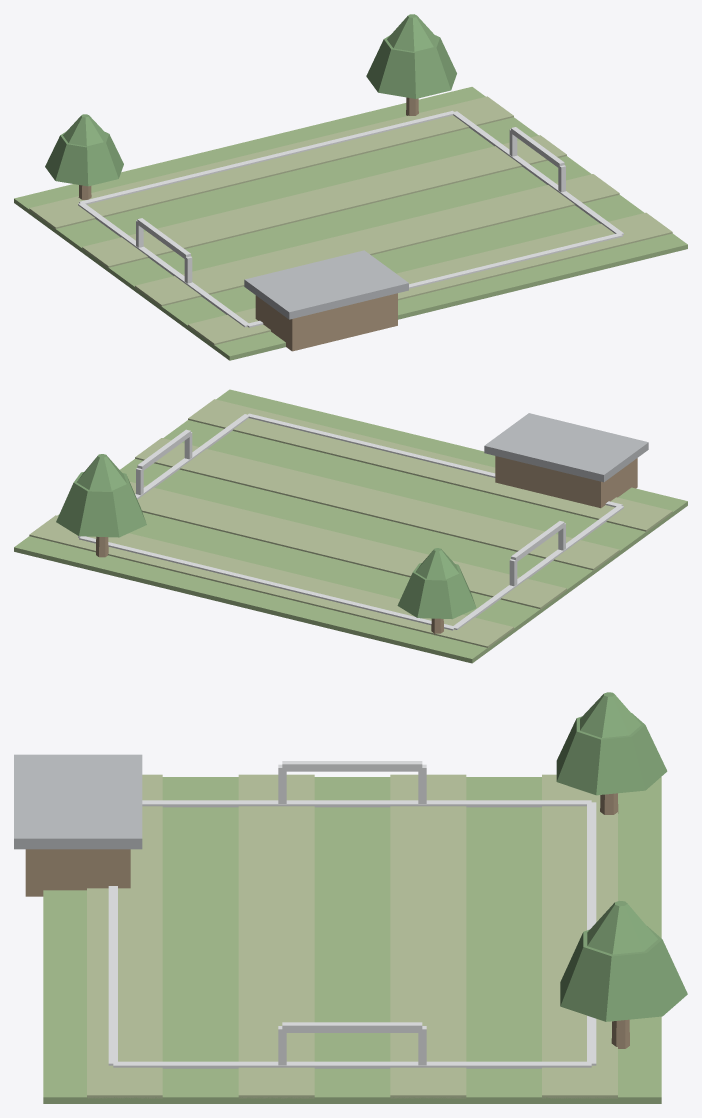
The model's file is plc_playing_field.glb.
The picture shows the model from 3 angles, top to bottom: view 1: azimuth 30°, elevation 25°; view 2: azimuth 150°, elevation 25°; view 3: azimuth 270°, elevation 25°; orthographic projection. The views are drawn at different scales.
Visible parts, largest first — view 1: plc_playing_field; view 2: plc_playing_field; view 3: plc_playing_field.
Boxes of the visible parts, x1=… form: plc_playing_field: x1=14, y1=14, x2=687, y2=360; plc_playing_field: x1=14, y1=389, x2=687, y2=663; plc_playing_field: x1=14, y1=692, x2=687, y2=1103.
Size of the model in its own units: 2.21 by 0.4774 by 1.96.
